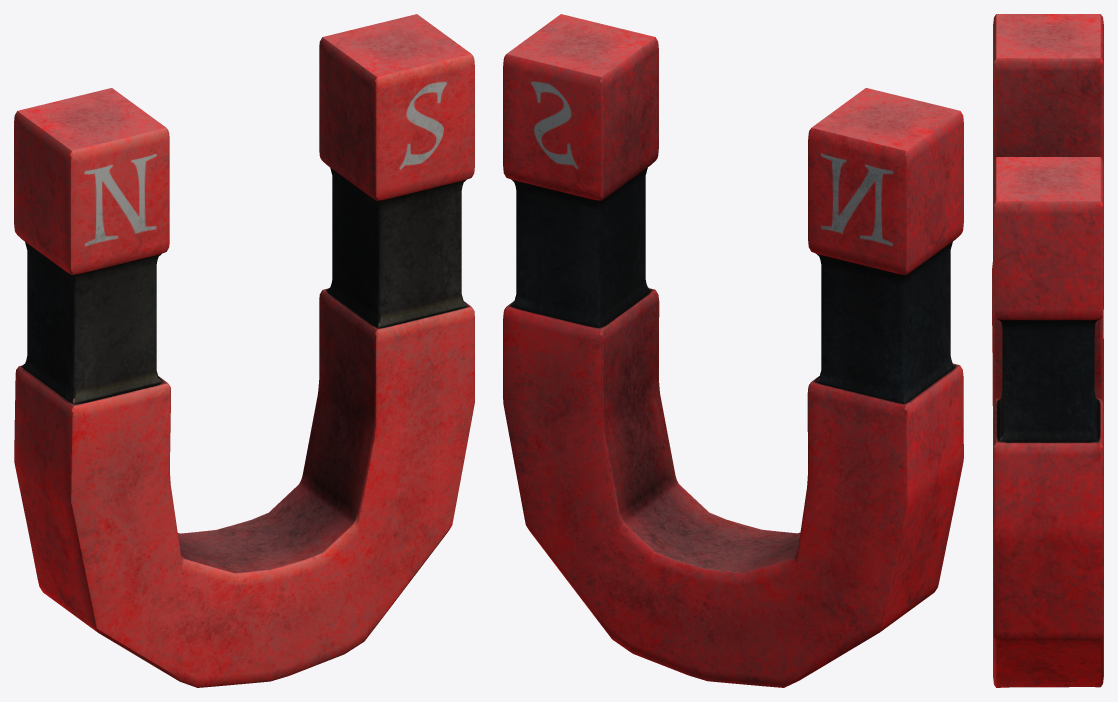
The model's file is Magnet.obj.
3 renders of one model, left to right at view 1: azimuth 30°, elevation 25°; view 2: azimuth 150°, elevation 25°; view 3: azimuth 270°, elevation 25°, orthographic. The views are drawn at different scales.
Parts seen in each view (by area): view 1: Red_Magnet_mesh.005; view 2: Red_Magnet_mesh.005; view 3: Red_Magnet_mesh.005.
Part boxes in pixels (x1,y1,x2,y2): Red_Magnet_mesh.005: [14, 14, 474, 687]; Red_Magnet_mesh.005: [503, 14, 963, 687]; Red_Magnet_mesh.005: [992, 14, 1103, 687].
Bounding box in the file's own units: 0.0955 × 0.1303 × 0.0239.
Materials: 1 (1 with a texture image).
